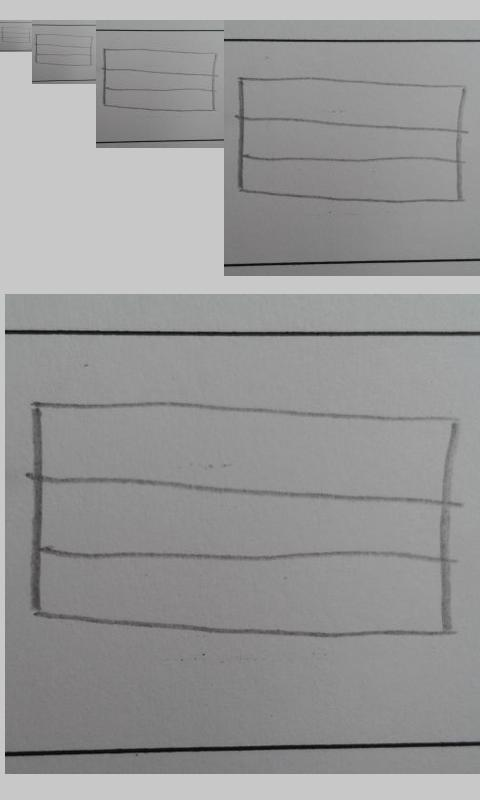list_view: (27, 398, 462, 640), (237, 76, 466, 204), (103, 48, 219, 113), (35, 33, 94, 67), (1, 26, 31, 44)
